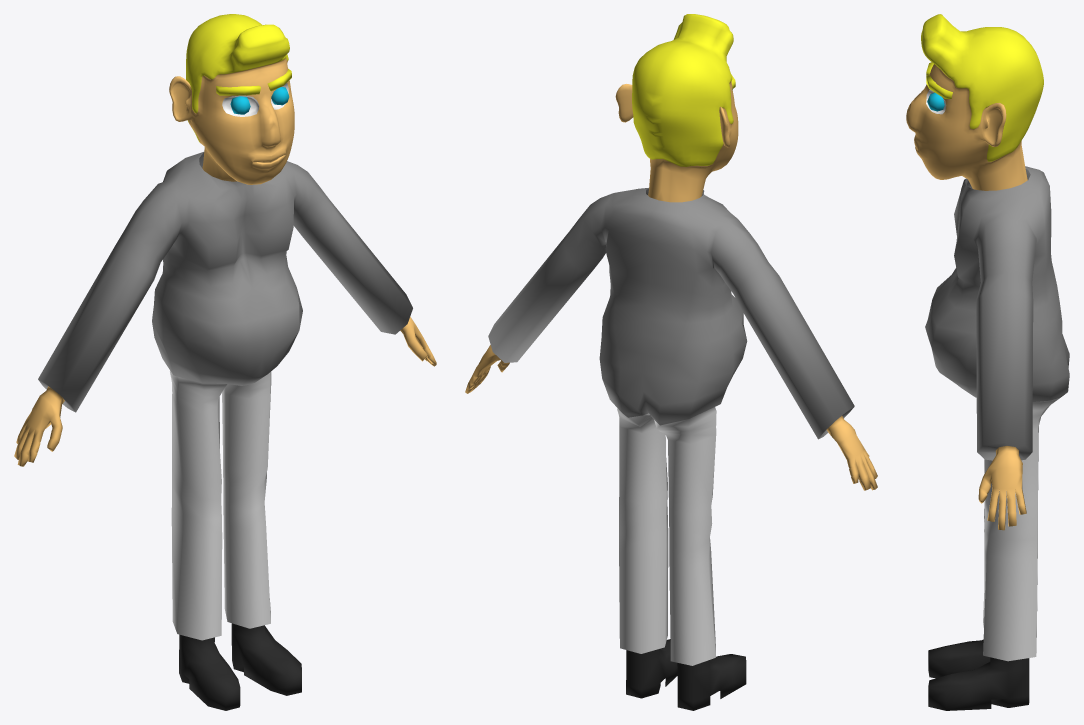
Rendered from Male_4.fbx.
3 views of the same model, side by side, from view 1: azimuth 30°, elevation 25°; view 2: azimuth 150°, elevation 25°; view 3: azimuth 270°, elevation 25° (orthographic). The views are drawn at different scales.
Parts seen in each view (by area): view 1: Male_4; view 2: Male_4; view 3: Male_4.
Boxes of the visible parts, x1,y1,x2,y2 form: Male_4: [14, 14, 436, 710]; Male_4: [465, 14, 877, 710]; Male_4: [906, 14, 1069, 710].
Size of the model in its own units: 125 by 192 by 42.51.
1 material, 1 textured.
